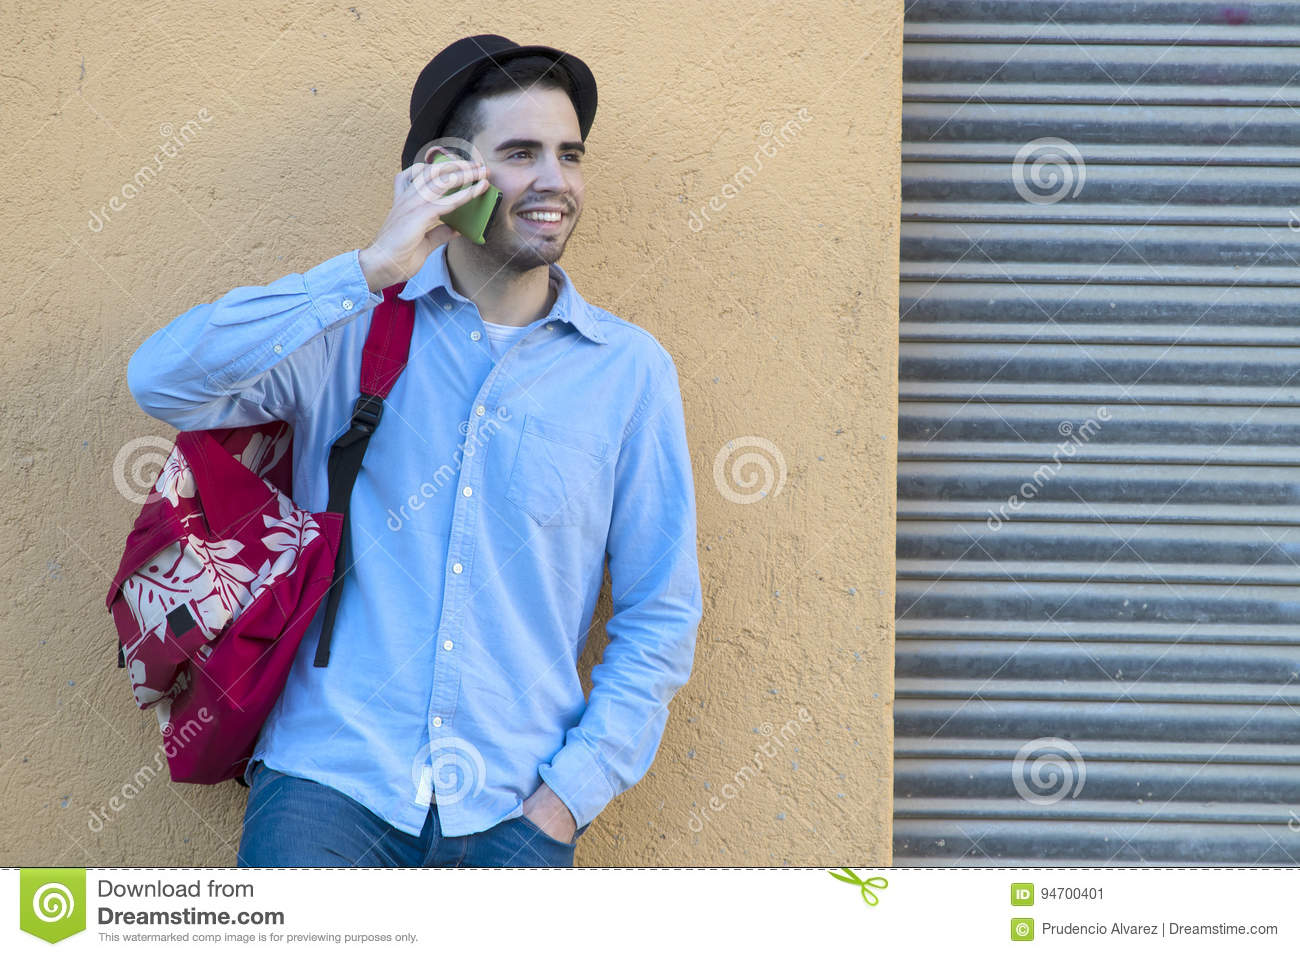phone: (413, 153, 501, 253)
talk: (375, 125, 592, 296)
